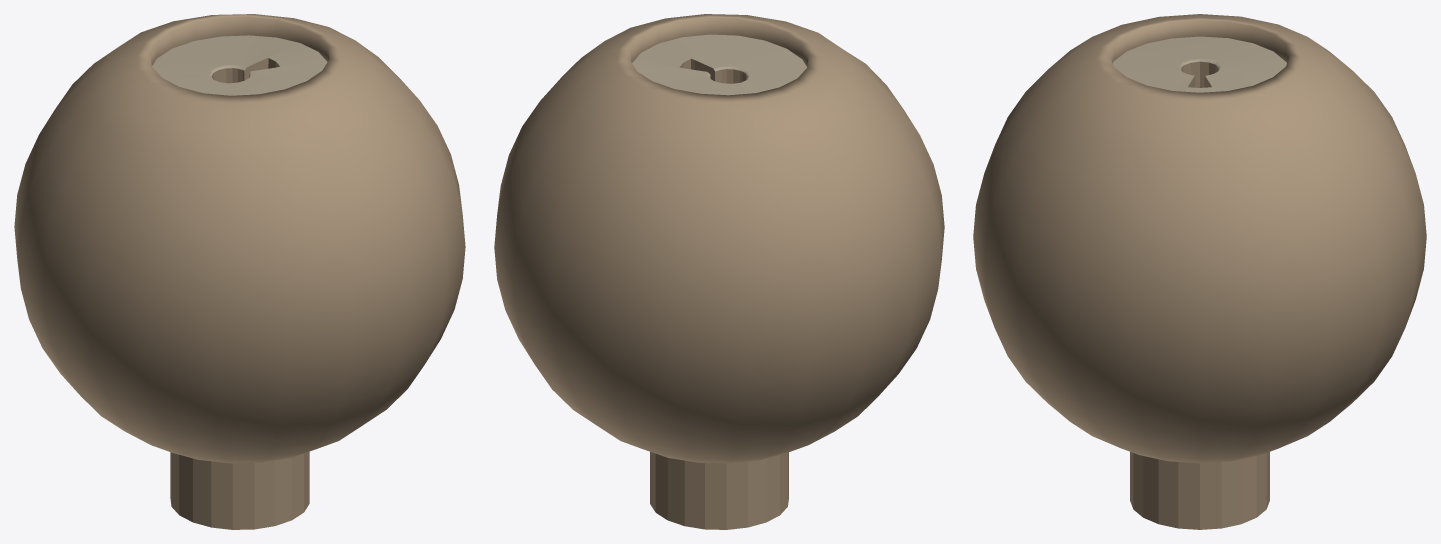
File: DoorKnob.fbx
3 views of the same model, side by side, from view 1: azimuth 30°, elevation 25°; view 2: azimuth 150°, elevation 25°; view 3: azimuth 270°, elevation 25° (orthographic).
Visible parts, largest first — view 1: pCylinder3; view 2: pCylinder3; view 3: pCylinder3.
Part boxes in pixels (x1=…): pCylinder3: x1=14, y1=14, x2=465, y2=529; pCylinder3: x1=494, y1=14, x2=944, y2=529; pCylinder3: x1=973, y1=14, x2=1426, y2=529.
Bounding box in the file's own units: 33.54 × 37.19 × 33.54.
